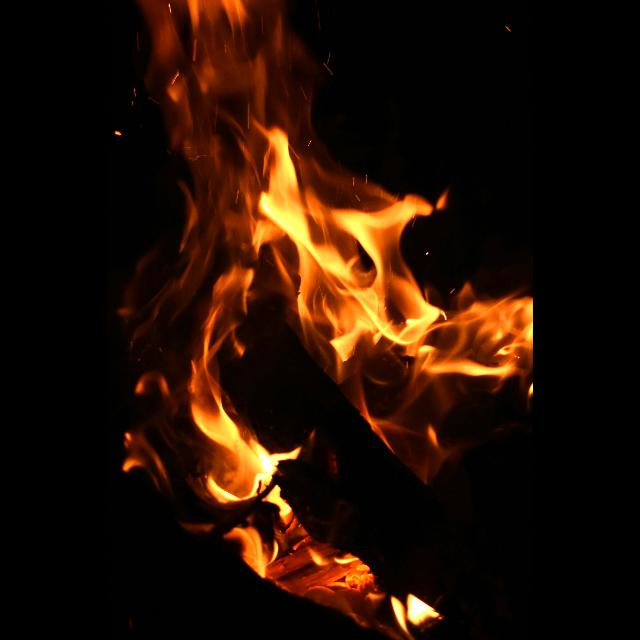fire: (126, 0, 534, 640)
